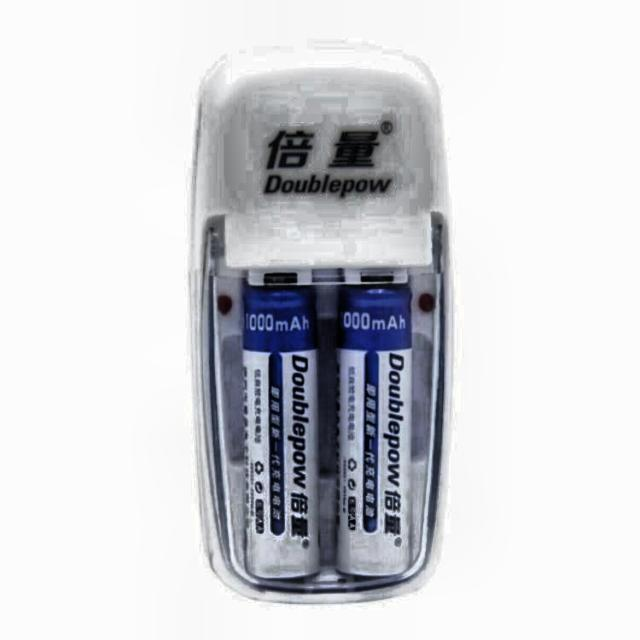battery: (242, 285, 319, 578), (336, 285, 411, 576)
